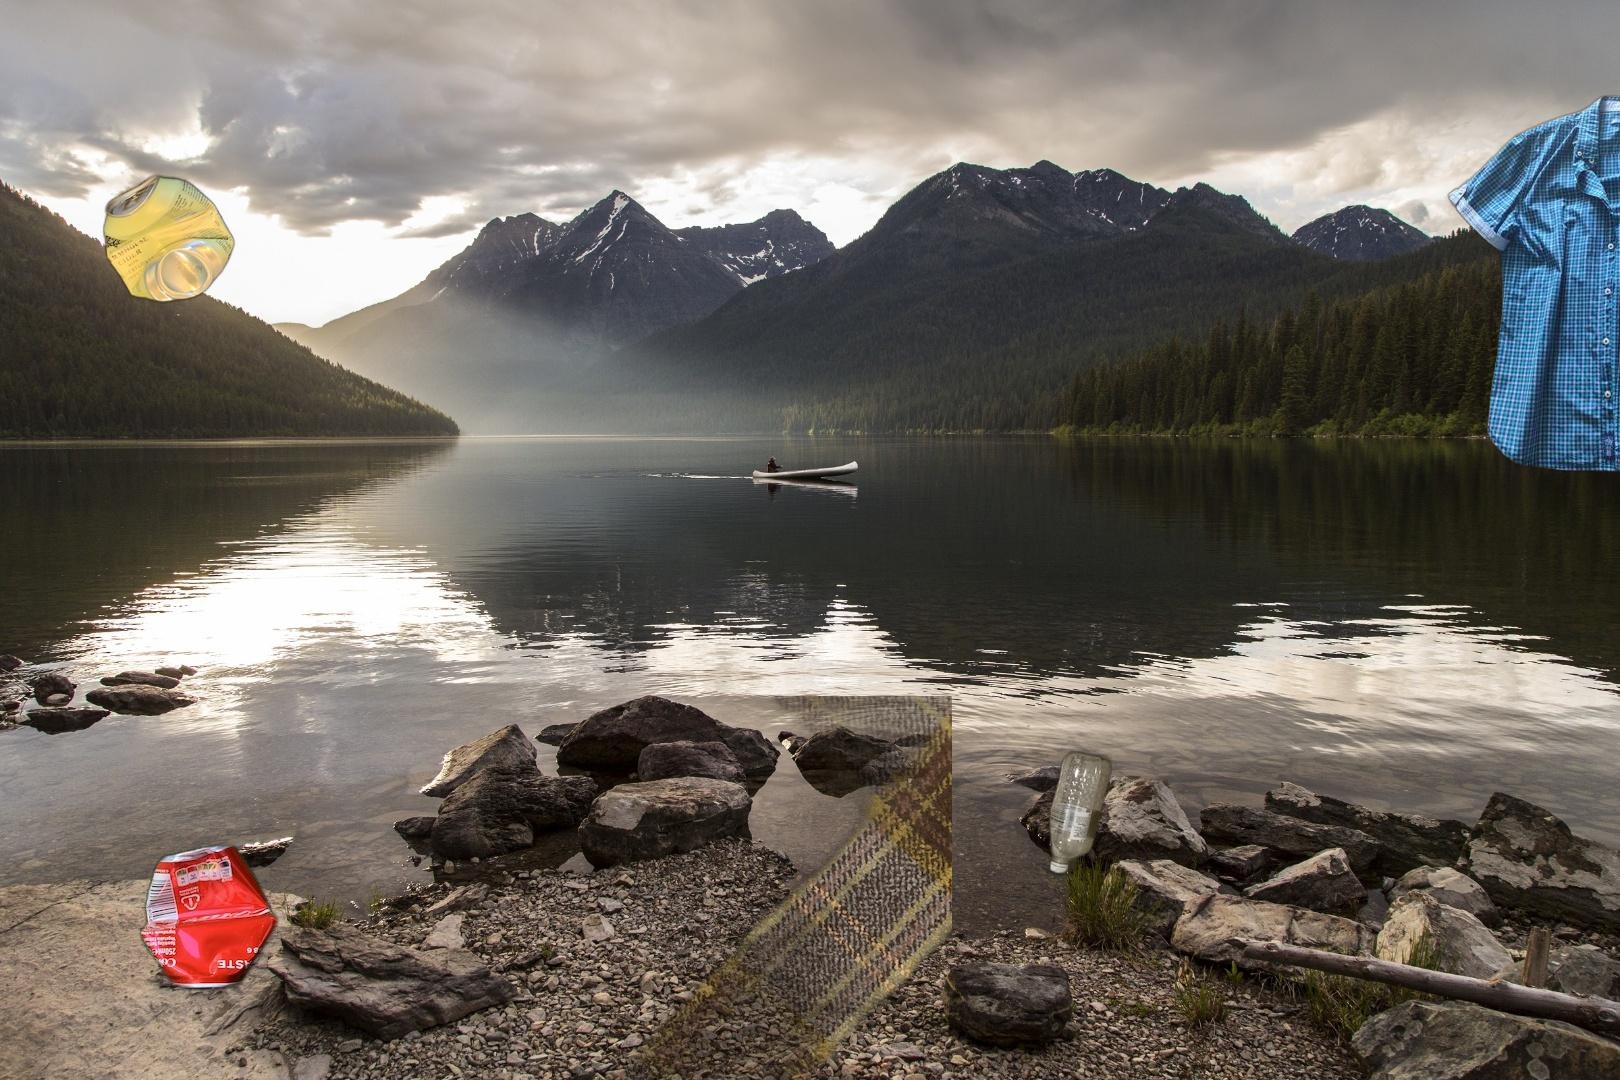clothes: (1445, 84, 1620, 476)
metal-cans: (135, 838, 283, 996), (100, 169, 237, 309)
plastic-bottles: (556, 695, 952, 1080), (1044, 745, 1116, 880)
